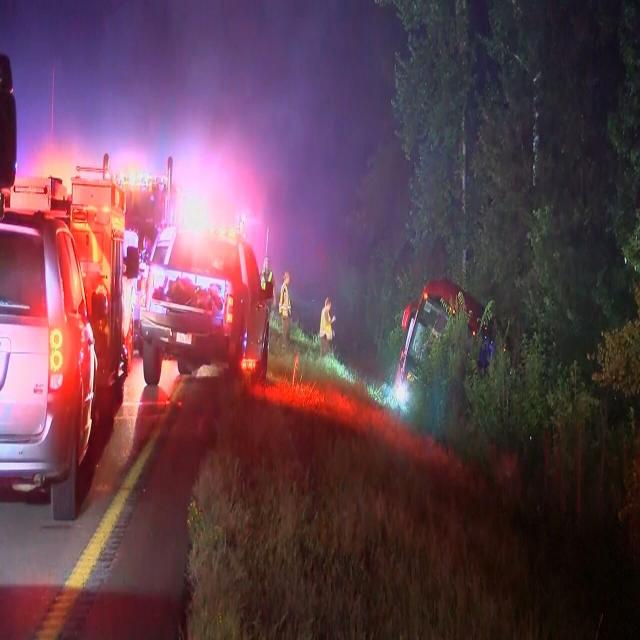Accident: (126, 199, 280, 405), (385, 272, 528, 462)
